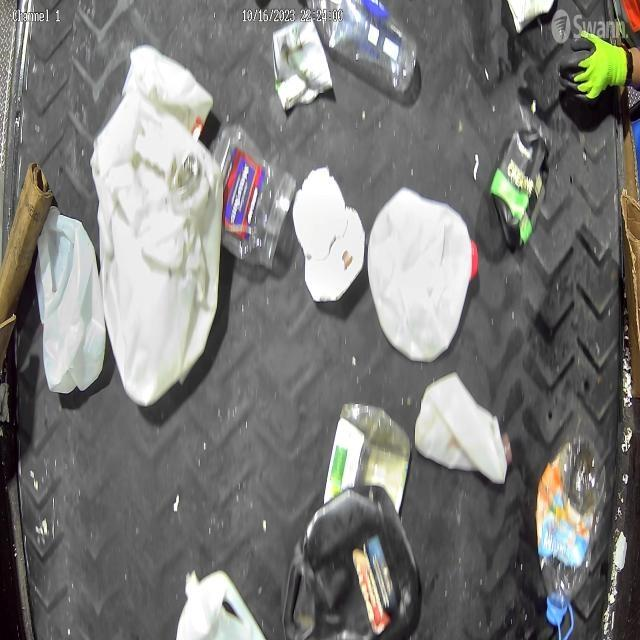milk_jug: (98, 119, 224, 409), (367, 185, 478, 362), (33, 207, 107, 396), (414, 374, 512, 486), (176, 570, 271, 640)
non_white_jug: (282, 483, 419, 640), (491, 127, 549, 248)
plastic_bottle: (536, 432, 608, 628), (307, 0, 420, 96)
